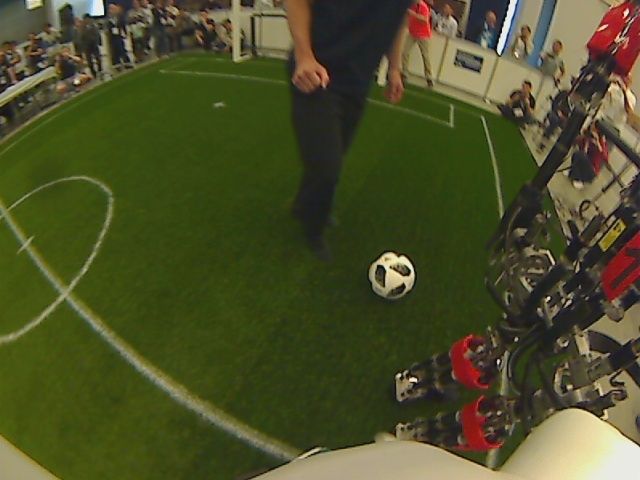ball: (368, 249, 415, 301)
